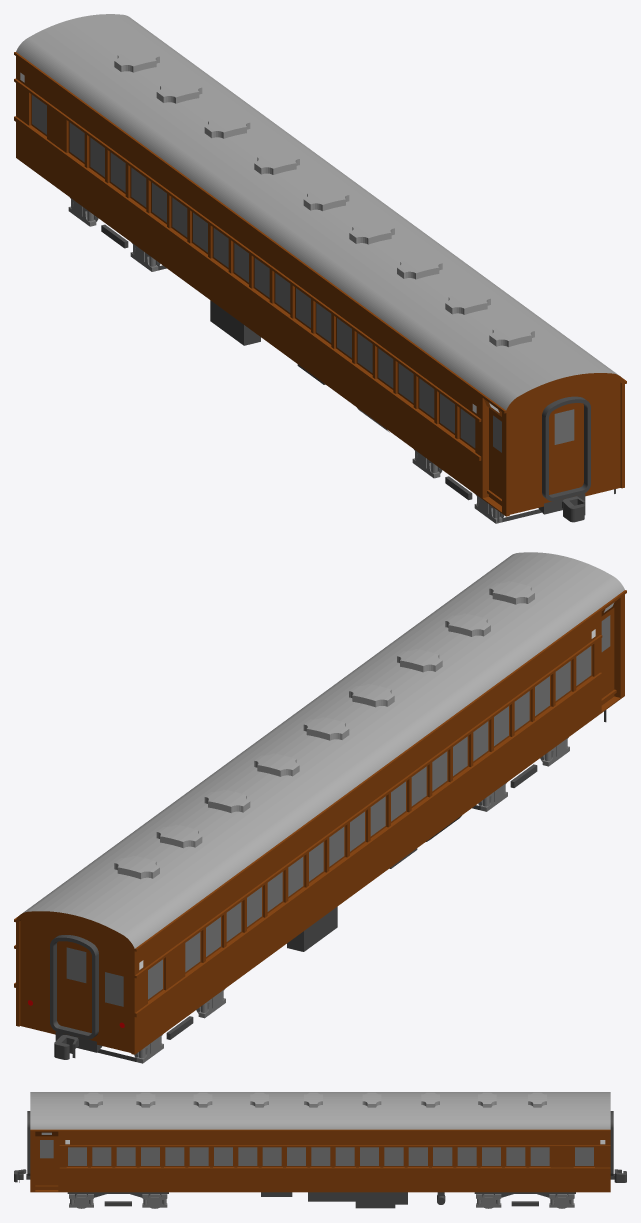
Rendered from C62-simple-car3.glb.
The picture shows the model from 3 angles, top to bottom: view 1: azimuth 30°, elevation 25°; view 2: azimuth 150°, elevation 25°; view 3: azimuth 270°, elevation 25°; orthographic projection. The views are drawn at different scales.
Parts seen in each view (by area): view 1: コンポーネント, Component#18, Component#15, Component#12, Component#12.001, Component#16.006, Component#16.007, Component#16.005, Component#16.002, Component#16.001, Component#16.008, Component#16 (+2 smaller); view 2: コンポーネント, Component#18.001, Component#15, Component#12.001, Component#12, Component#16, Component#16.008, Component#16.004, Component#16.002, Component#16.007, Component#16.003, Component#16.005 (+2 smaller); view 3: コンポーネント, Component#15.001, Component#12.001, Component#12, Component#13.021, Component#13.022, Component#13.023, Component#13.024, Component#13.025, Component#13.026, Component#13.027, Component#13.028 (+25 smaller).
Part boxes in pixels (x1,y1,x2,y2): コンポーネント: (14,14,626,516); Component#18: (542,396,590,501); Component#15: (482,398,501,522); Component#12: (412,449,541,523); Component#12.001: (68,197,166,271); Component#16.006: (156,80,202,103); Component#16.007: (204,115,250,138); Component#16.005: (114,49,159,72); Component#16.002: (445,291,490,314); Component#16.001: (349,221,394,244); Component#16.008: (254,151,299,174); Component#16: (303,188,349,211); コンポーネント: (14,552,626,1054); Component#18.001: (50,935,98,1039); Component#15: (601,598,620,722); Component#12.001: (97,989,225,1063); Component#12: (472,737,569,811); Component#16: (303,717,349,740); Component#16.008: (254,753,299,776); Component#16.004: (489,581,534,604); Component#16.002: (445,613,490,636); Component#16.007: (204,789,250,812); Component#16.003: (397,649,442,672); Component#16.005: (114,856,159,879); コンポーネント: (30,1092,610,1208); Component#15.001: (35,1131,58,1192); Component#12.001: (474,1192,575,1208); Component#12: (67,1192,168,1208); Component#13.021: (188,1147,209,1167); Component#13.022: (529,1147,550,1167); Component#13.023: (505,1147,526,1167); Component#13.024: (573,1147,594,1167); Component#13.025: (480,1147,501,1167); Component#13.026: (66,1147,87,1167); Component#13.027: (91,1147,112,1167); Component#13.028: (456,1147,477,1167).
Size of the model in its own units: 2.89 by 3.9 by 21.13.
